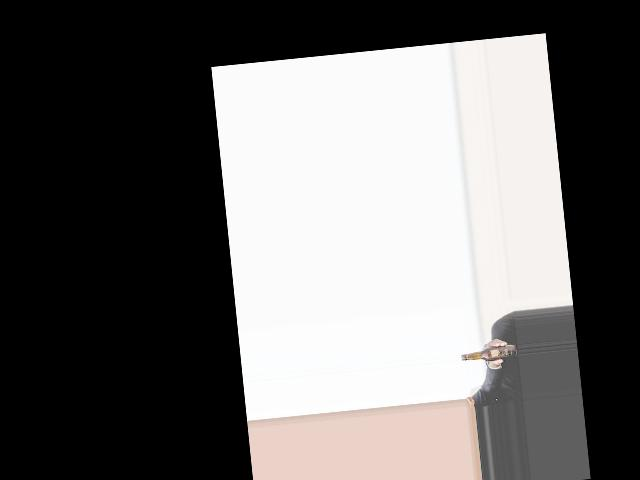beer: (460, 343, 517, 363)
